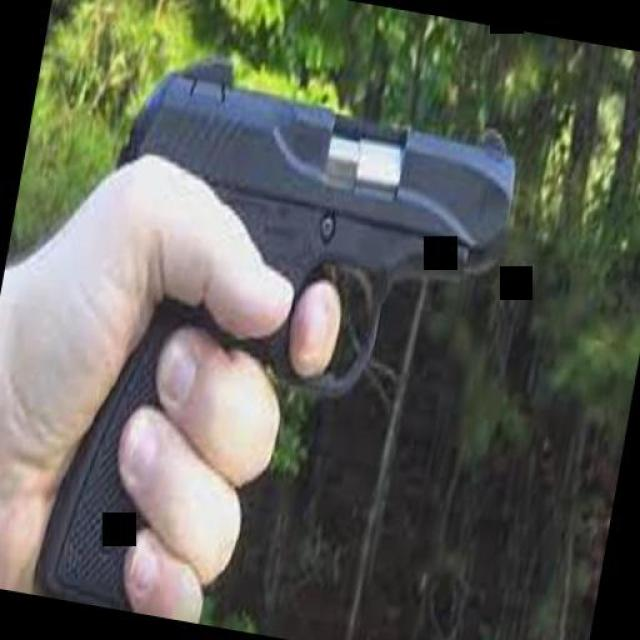gun: (38, 47, 533, 640)
